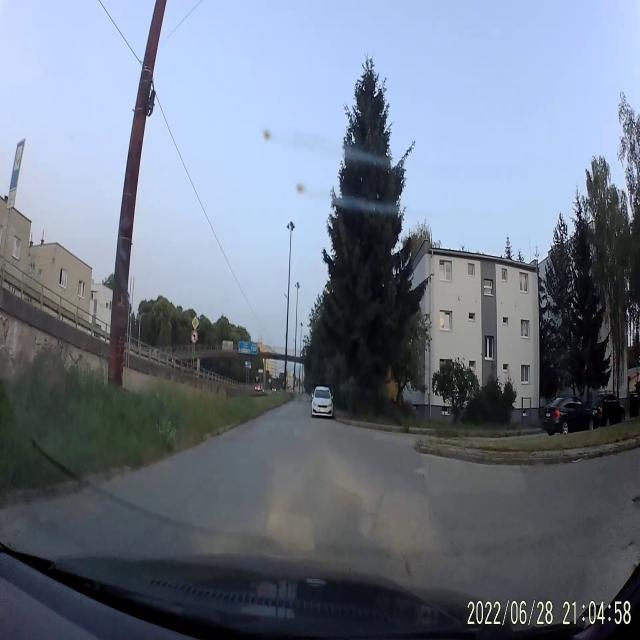Pothole: (629, 493, 640, 516), (625, 537, 637, 549)
